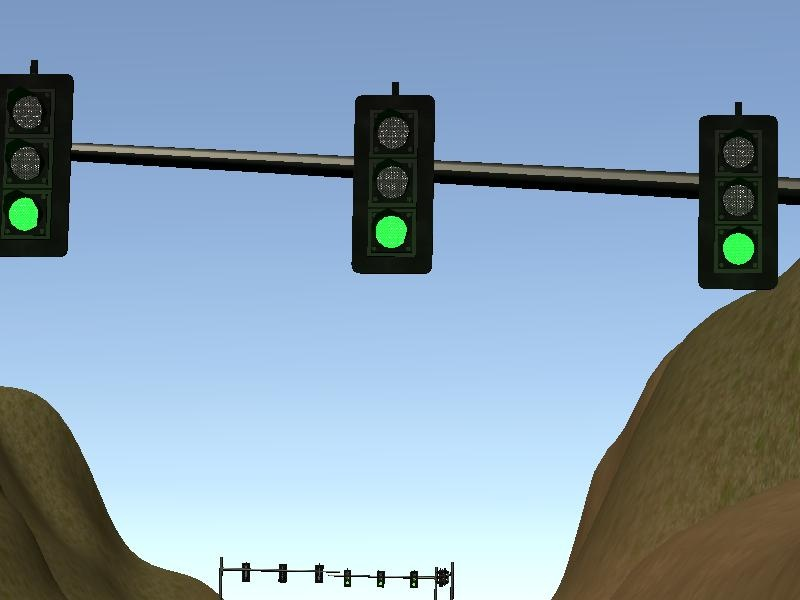GREEN: (352, 96, 434, 273), (697, 115, 779, 292), (1, 72, 73, 257)
